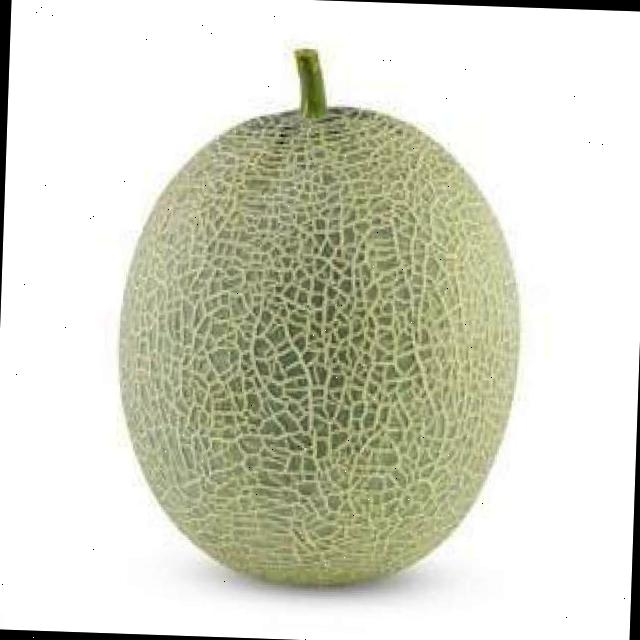Hami Melon: (110, 95, 530, 590)
